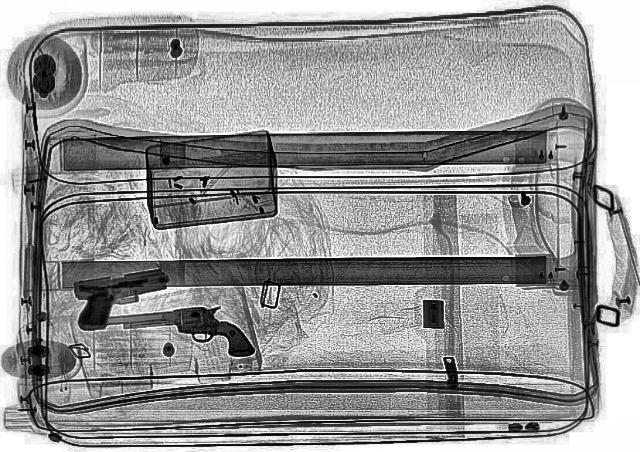Gun: (70, 300, 256, 374), (52, 264, 182, 334)
